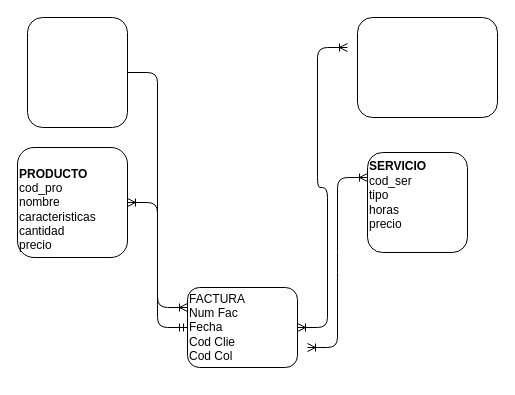
The diagram is 515 pixels wide and 395 high, and some of its shapes have lost their labels. Here are the shapes that lost their labels. From the top down, the centre of each, then its label:
At point 77,72: "COLABORADOR cod_col ced_ide nombre telefono dirección".
At point 427,67: "CLIENTE cod_clie ced_Ide nombre direccion telefono".
